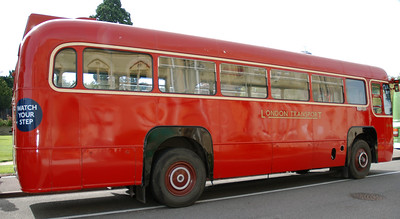bus: (12, 12, 394, 207)
